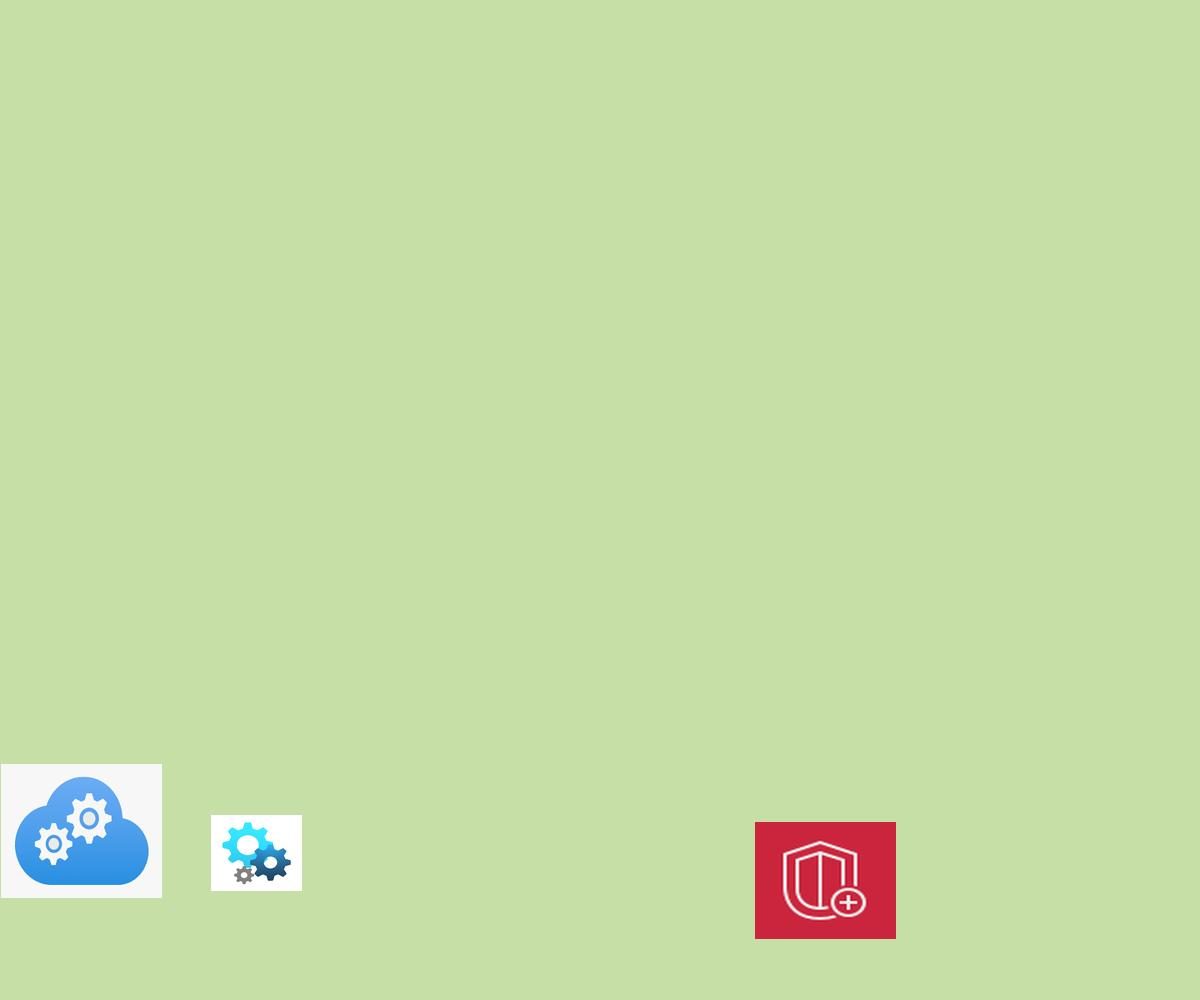AWS-Shield: (755, 822, 896, 939)
Azure_api: (211, 815, 302, 891)
Azure_cloud_services: (1, 764, 162, 898)
